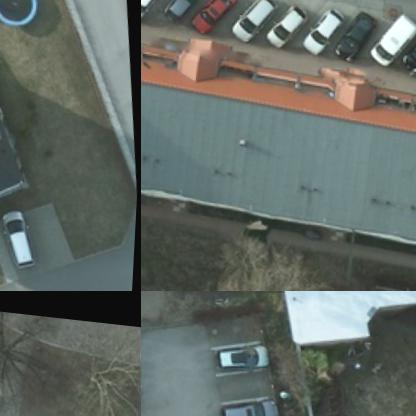car: (297, 0, 349, 56), (330, 5, 381, 60), (0, 200, 38, 266), (229, 0, 281, 46), (214, 336, 272, 374), (265, 0, 309, 49), (187, 0, 237, 37), (219, 391, 284, 415), (159, 0, 202, 27), (396, 22, 415, 70)
van: (364, 2, 415, 68)
